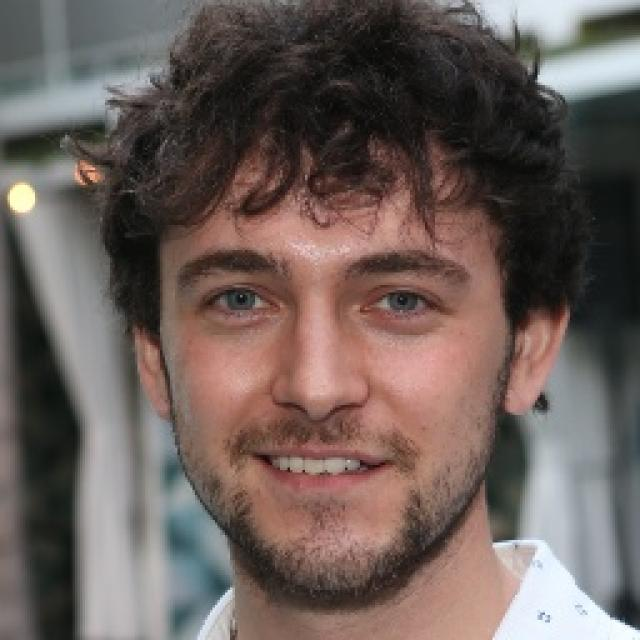earlobe: (501, 289, 572, 416), (132, 319, 173, 424)
